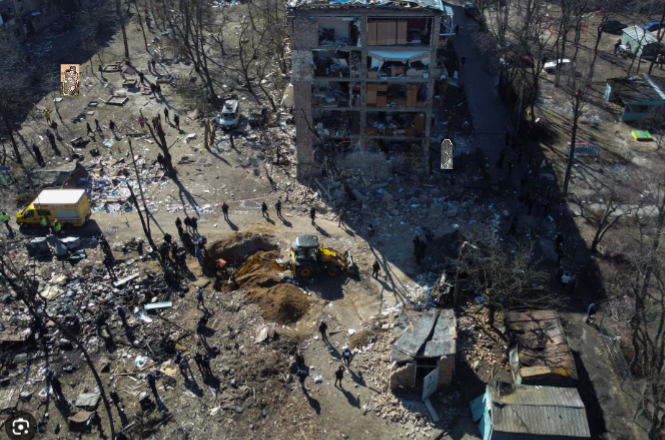HVT1: (441, 138, 453, 168), (66, 66, 78, 93)
